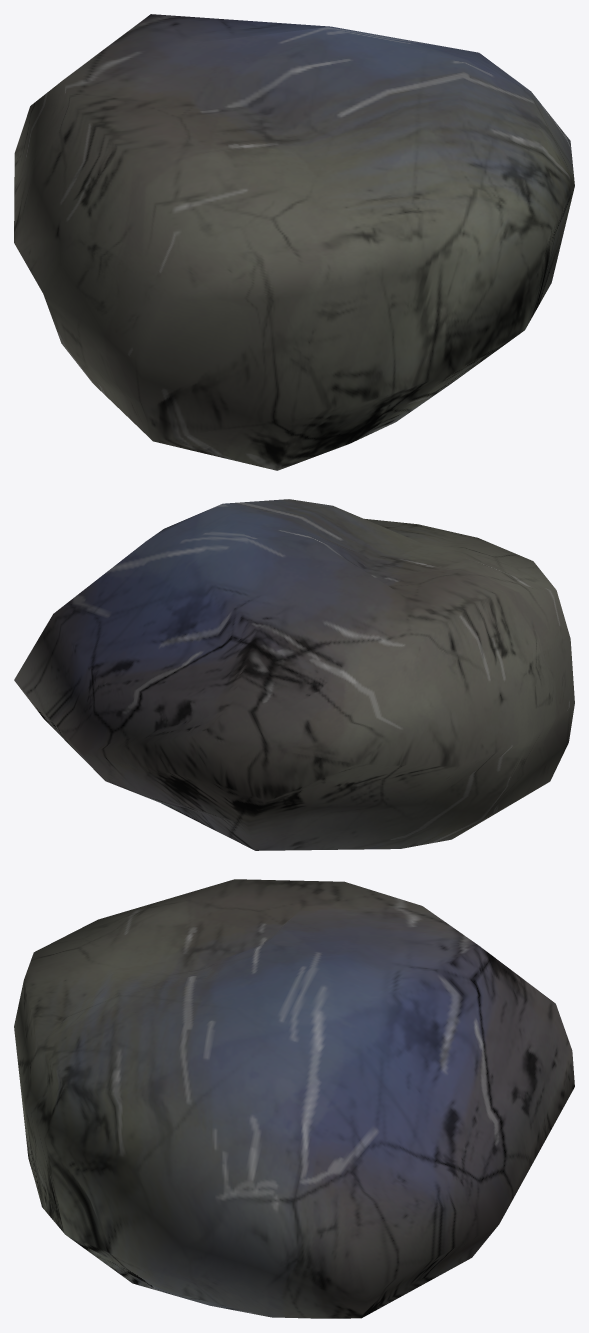
The model's file is Rock_03B.fbx.
The picture shows the model from 3 angles, top to bottom: view 1: azimuth 30°, elevation 25°; view 2: azimuth 150°, elevation 25°; view 3: azimuth 270°, elevation 25°; orthographic projection. The views are drawn at different scales.
Visible parts, largest first — view 1: Rock01:Mesh9; view 2: Rock01:Mesh9; view 3: Rock01:Mesh9.
Part boxes in pixels (box(x1,y1,x2,y2)): Rock01:Mesh9: box(14, 14, 574, 470); Rock01:Mesh9: box(14, 499, 574, 850); Rock01:Mesh9: box(14, 879, 574, 1318).
Bounding box in the file's own units: 8.82 × 5.16 × 7.76.
